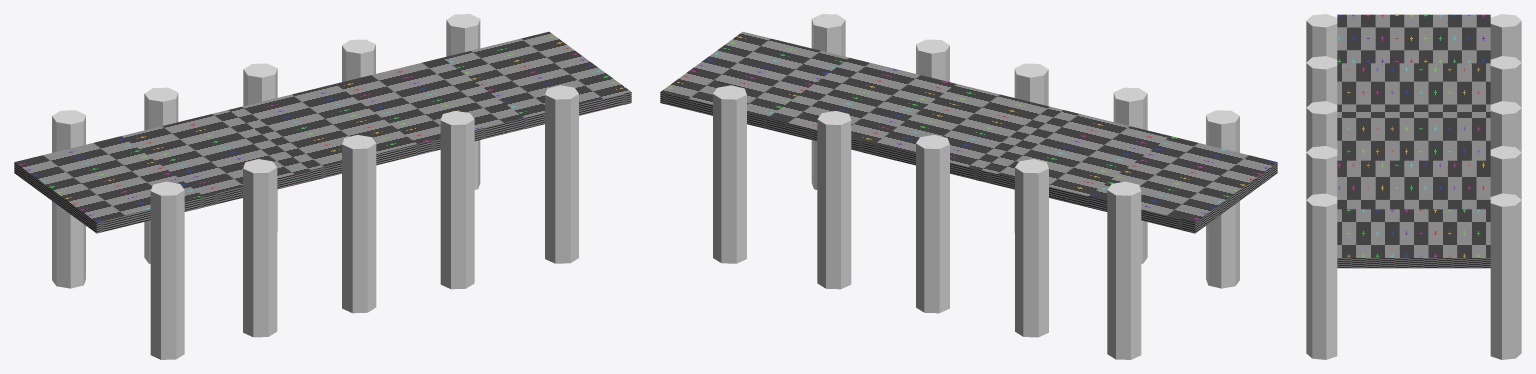
Rendered from holzsteg.glb.
3 renders of one model, left to right at view 1: azimuth 30°, elevation 25°; view 2: azimuth 150°, elevation 25°; view 3: azimuth 270°, elevation 25°, orthographic. The views are drawn at different scales.
Parts seen in each view (by area): view 1: Cube, Cylinder.002, Cylinder.001, Cylinder.005, Cylinder.006, Cylinder.009, Cylinder, Cylinder.008, Cylinder.003, Cylinder.004, Cylinder.007; view 2: Cube, Cylinder, Cylinder.007, Cylinder.008, Cylinder.003, Cylinder.004, Cylinder.001, Cylinder.009, Cylinder.002, Cylinder.005, Cylinder.006; view 3: Cube, Cylinder.009, Cylinder.008, Cylinder.006, Cylinder.007, Cylinder.002, Cylinder.003, Cylinder.004, Cylinder.005, Cylinder.001, Cylinder.
Boxes of the visible parts, box(x1,y1,x2,y2) form: Cube: box(14, 31, 631, 233); Cylinder.002: box(243, 159, 277, 337); Cylinder.001: box(150, 181, 184, 359); Cylinder.005: box(342, 135, 376, 313); Cylinder.006: box(440, 111, 474, 289); Cylinder.009: box(545, 85, 578, 263); Cylinder: box(52, 110, 85, 288); Cylinder.008: box(446, 14, 480, 189); Cylinder.003: box(144, 87, 178, 263); Cylinder.004: box(243, 63, 277, 231); Cylinder.007: box(342, 39, 375, 81); Cube: box(660, 32, 1277, 233); Cylinder: box(1107, 181, 1141, 359); Cylinder.007: box(817, 111, 851, 289); Cylinder.008: box(713, 85, 746, 263); Cylinder.003: box(1015, 159, 1048, 337); Cylinder.004: box(916, 135, 949, 313); Cylinder.001: box(1206, 110, 1239, 288); Cylinder.009: box(811, 14, 845, 189); Cylinder.002: box(1113, 87, 1147, 263); Cylinder.005: box(1014, 63, 1048, 232); Cylinder.006: box(916, 39, 949, 81); Cube: box(1337, 14, 1490, 268); Cylinder.009: box(1306, 193, 1337, 359); Cylinder.008: box(1490, 193, 1521, 359); Cylinder.006: box(1306, 146, 1337, 199); Cylinder.007: box(1490, 146, 1521, 199); Cylinder.002: box(1306, 56, 1337, 107); Cylinder.003: box(1490, 56, 1521, 107); Cylinder.004: box(1490, 101, 1521, 151); Cylinder.005: box(1306, 101, 1337, 151); Cylinder.001: box(1306, 14, 1337, 62); Cylinder: box(1490, 14, 1521, 62).
Size of the model in its own units: 15 by 4.4 by 5.62.
Materials: 2 (1 with a texture image).
